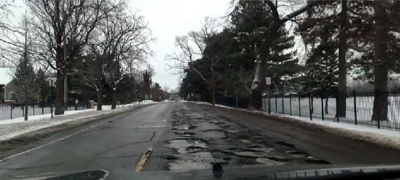pothole: (306, 158, 330, 167), (277, 141, 296, 150), (228, 147, 258, 152), (212, 164, 225, 172), (175, 132, 195, 137), (188, 146, 203, 152)
